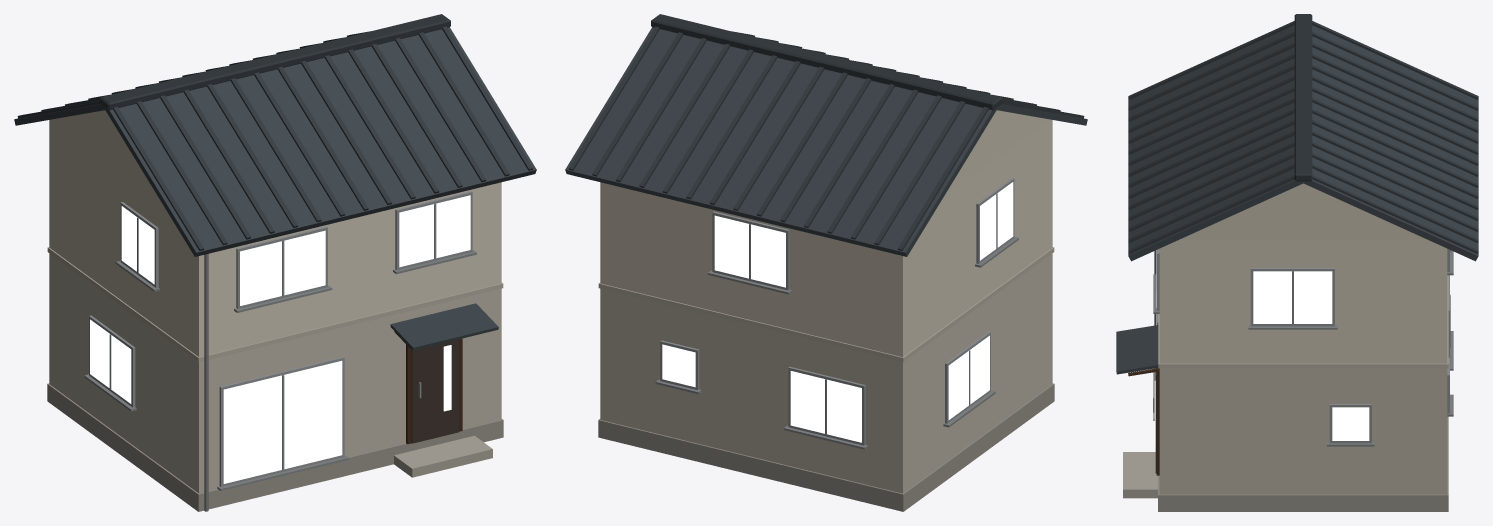
File: building_house_01.glb
3 renders of one model, left to right at view 1: azimuth 30°, elevation 25°; view 2: azimuth 150°, elevation 25°; view 3: azimuth 270°, elevation 25°, orthographic. The views are drawn at different scales.
Visible parts, largest first — view 1: building_house_01; view 2: building_house_01; view 3: building_house_01.
Boxes of the visible parts, <box> form: building_house_01: <box>14,14,536,511</box>; building_house_01: <box>565,14,1087,511</box>; building_house_01: <box>1116,14,1478,511</box>.
Bounding box in the file's own units: 7.23 × 7.26 × 6.88.
